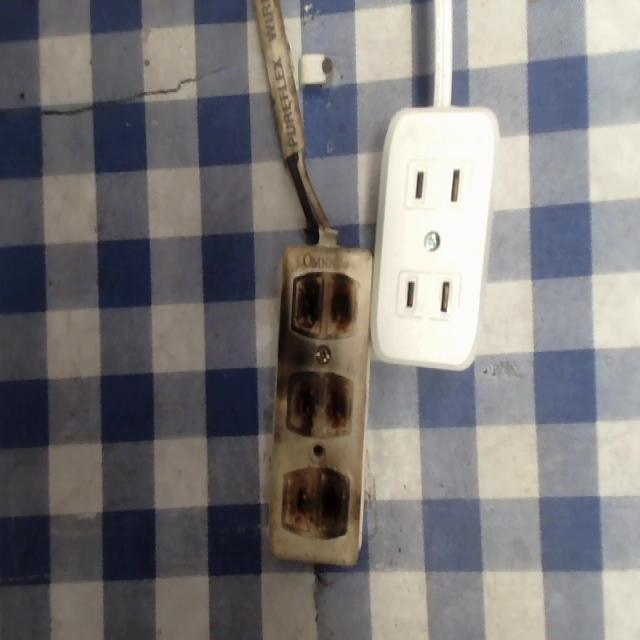-: (282, 463, 353, 548), (285, 265, 361, 344), (279, 367, 351, 436)
